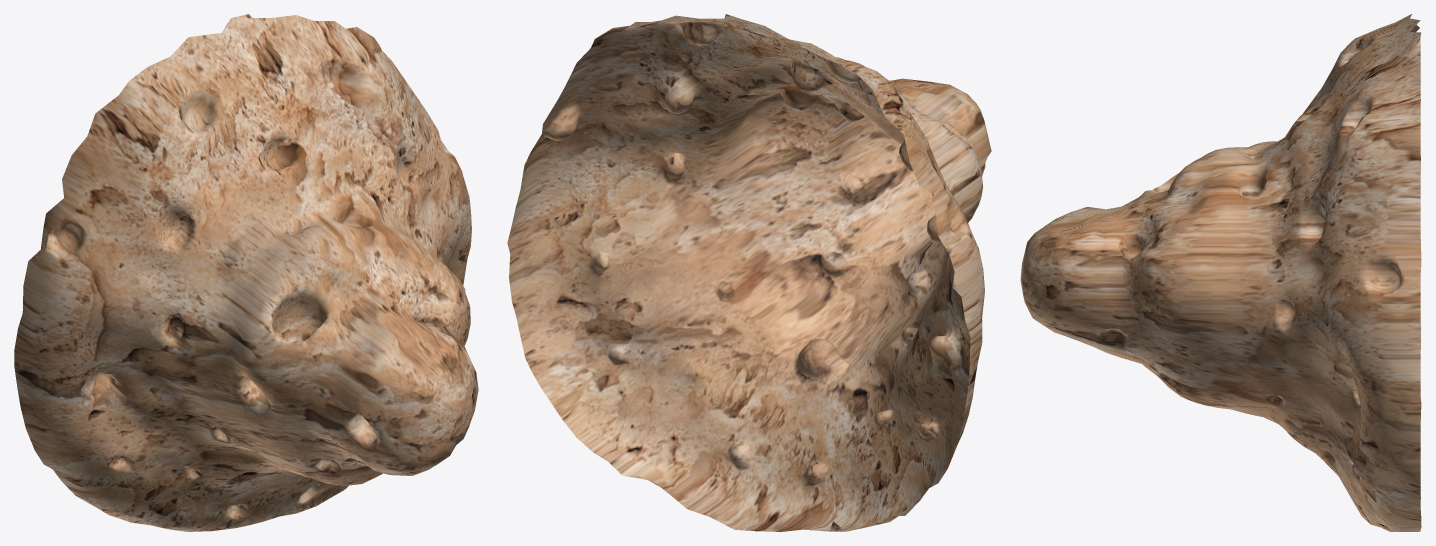
File: nest_GEO_01.fbx
3 renders of one model, left to right at view 1: azimuth 30°, elevation 25°; view 2: azimuth 150°, elevation 25°; view 3: azimuth 270°, elevation 25°, orthographic. The views are drawn at different scales.
Visible parts, largest first — view 1: NesterKäfer_resized_02:Group8673; view 2: NesterKäfer_resized_02:Group8673; view 3: NesterKäfer_resized_02:Group8673.
Part boxes in pixels (x1=…): NesterKäfer_resized_02:Group8673: x1=14, y1=14, x2=478, y2=531; NesterKäfer_resized_02:Group8673: x1=507, y1=14, x2=991, y2=531; NesterKäfer_resized_02:Group8673: x1=1020, y1=14, x2=1421, y2=531.
Bounding box in the file's own units: 1.87 × 1.99 × 1.53.
1 material, 1 textured.
